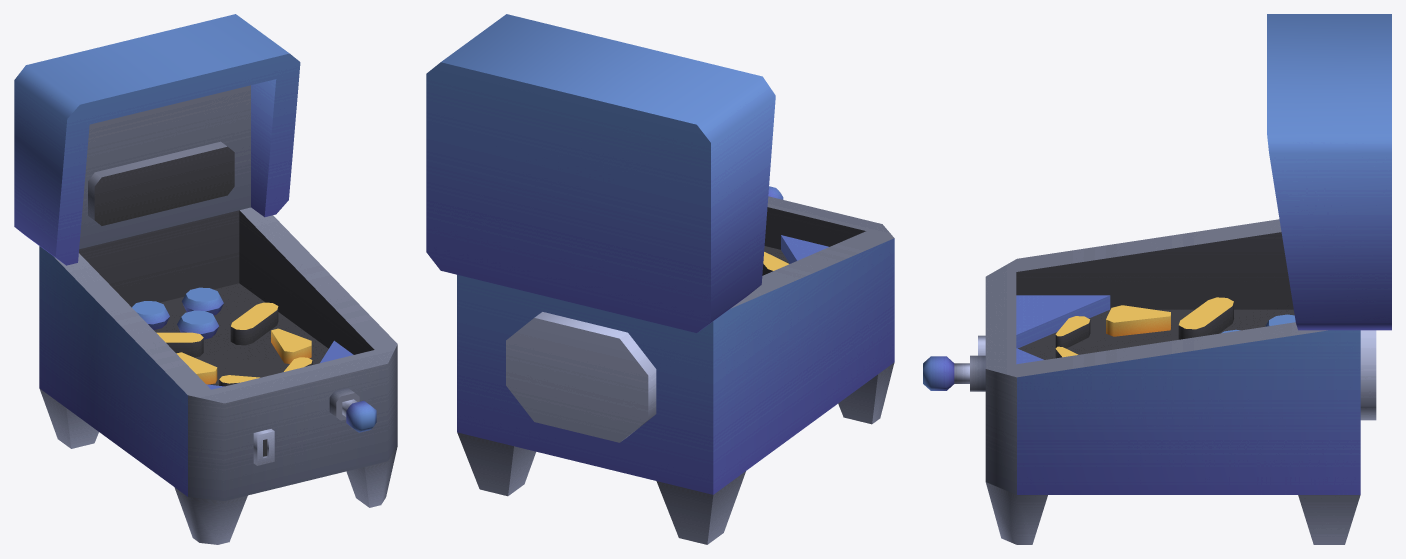
The model's file is pinball.001_lev2.glb.
3 views of the same model, side by side, from view 1: azimuth 30°, elevation 25°; view 2: azimuth 150°, elevation 25°; view 3: azimuth 270°, elevation 25° (orthographic). The views are drawn at different scales.
Parts seen in each view (by area): view 1: pinball.001_lev2; view 2: pinball.001_lev2; view 3: pinball.001_lev2.
Boxes of the visible parts, x1,y1,x2,y2 form: pinball.001_lev2: (14, 14, 397, 544); pinball.001_lev2: (426, 14, 894, 544); pinball.001_lev2: (923, 14, 1391, 544).
Size of the model in its own units: 2 by 2.96 by 3.01.
1 material, 1 textured.
